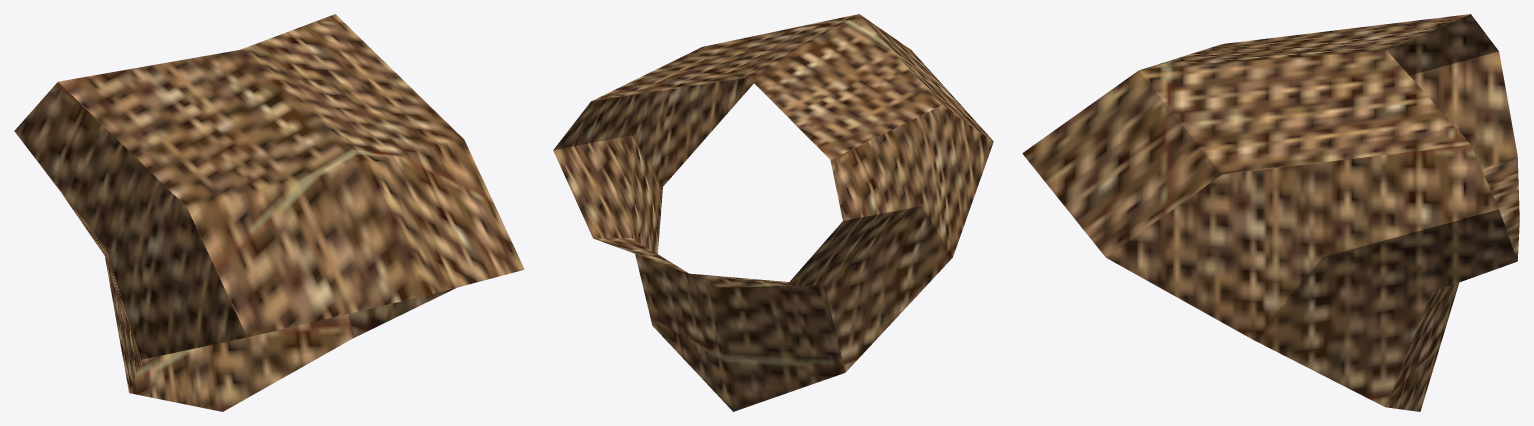
File: helmet_kwa_01.dae
3 renders of one model, left to right at view 1: azimuth 30°, elevation 25°; view 2: azimuth 150°, elevation 25°; view 3: azimuth 270°, elevation 25°, orthographic. The views are drawn at different scales.
Visible parts, largest first — view 1: a_helmet_kwa_01; view 2: a_helmet_kwa_01; view 3: a_helmet_kwa_01.
Boxes of the visible parts, x1,y1,x2,y2 form: a_helmet_kwa_01: (14,14,524,411); a_helmet_kwa_01: (553,14,993,411); a_helmet_kwa_01: (1022,14,1519,411).
Bounding box in the file's own units: 0.5243 × 0.6978 × 0.5595.
